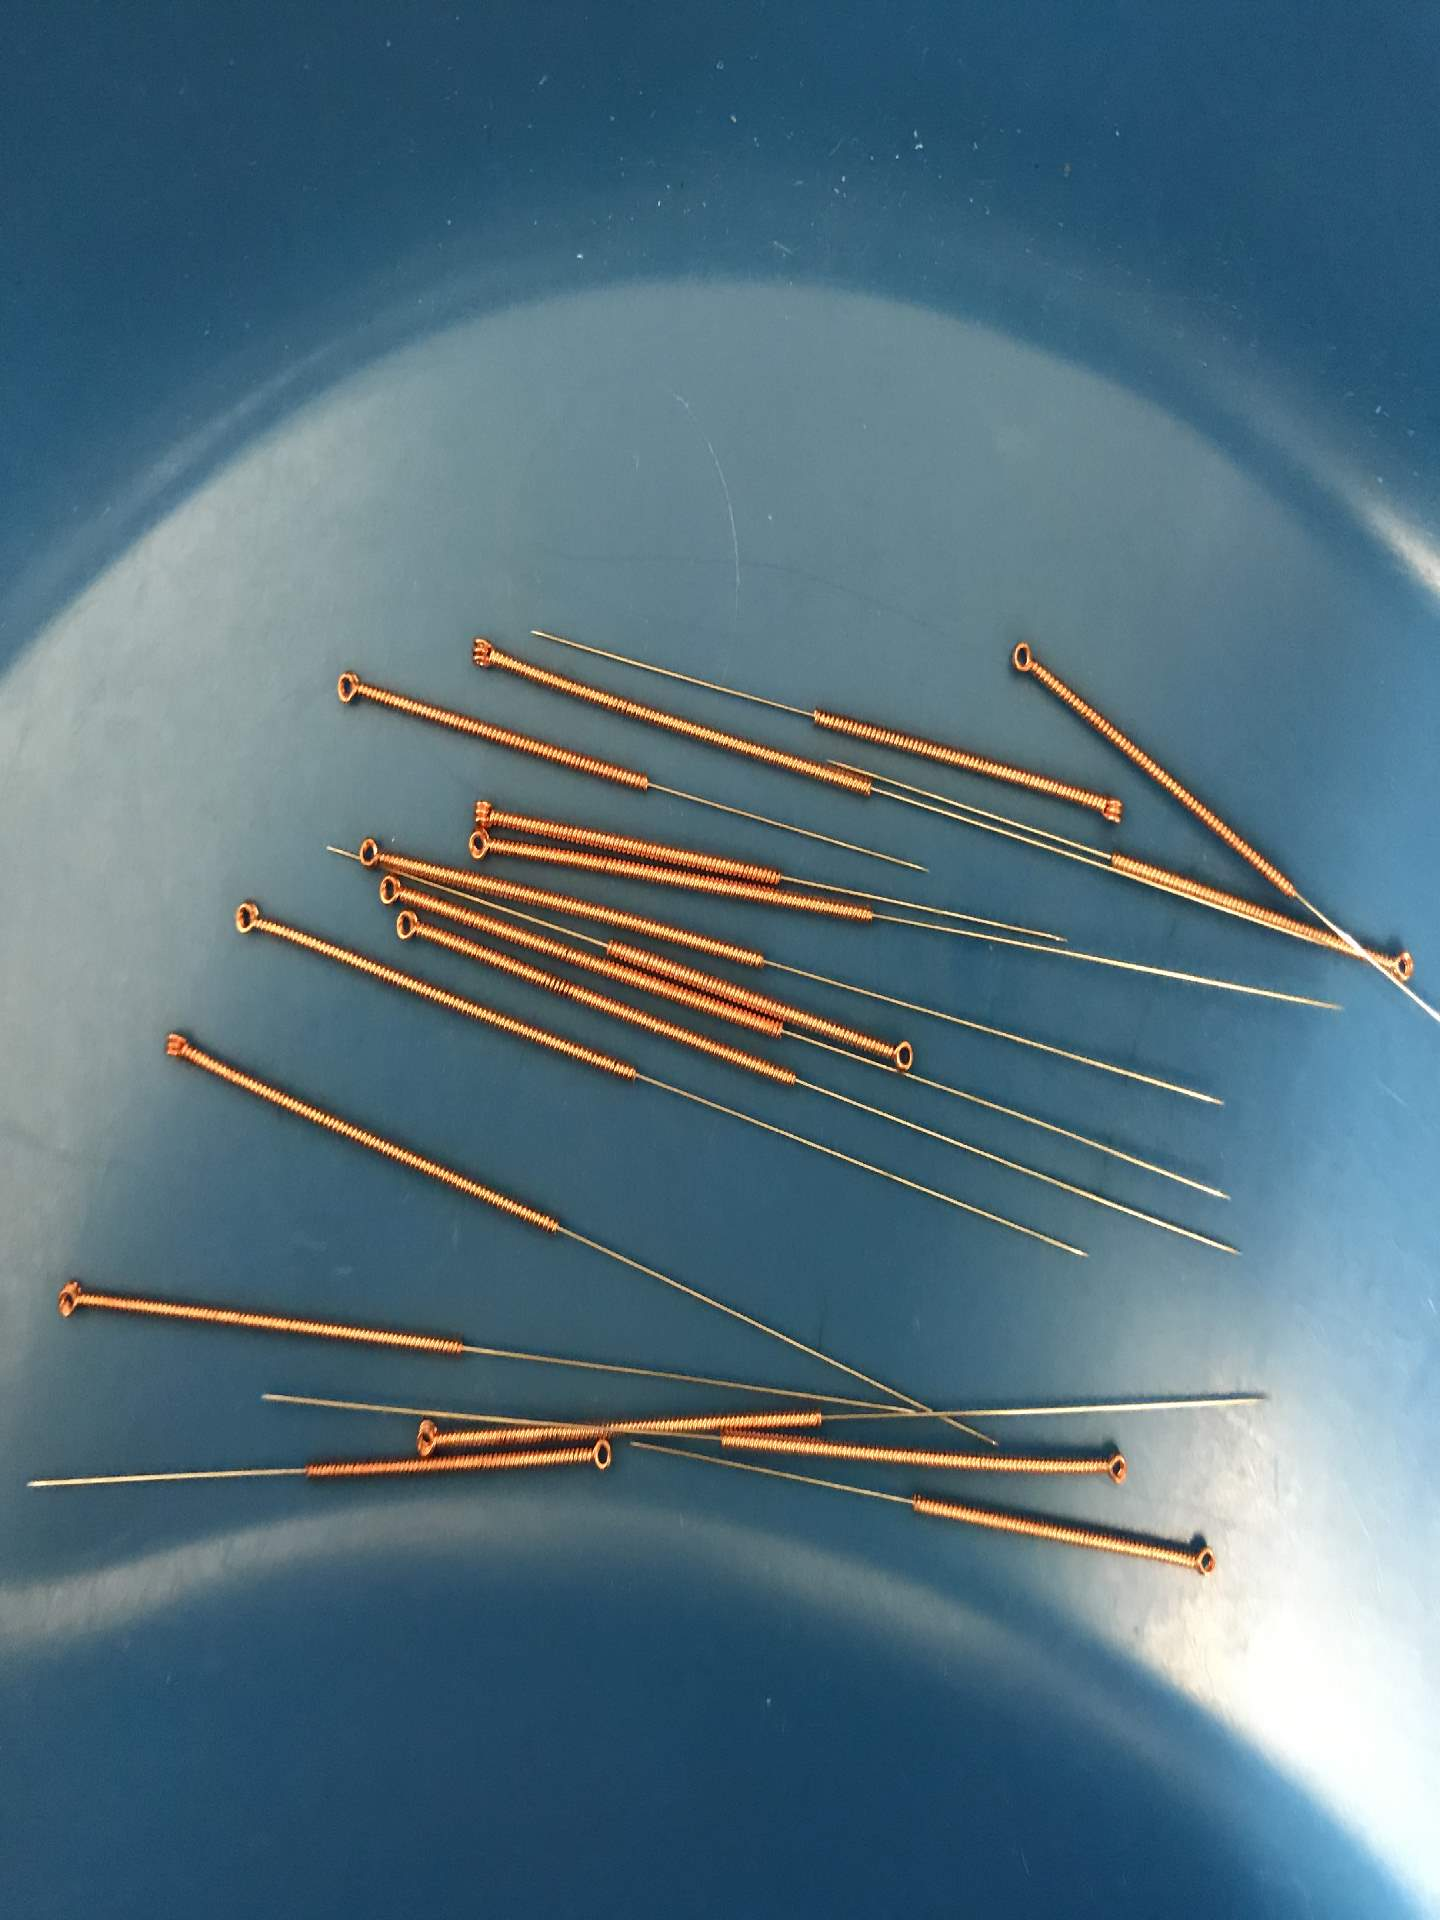needle: (219, 890, 272, 951), (44, 1268, 95, 1330), (151, 1017, 201, 1079), (455, 627, 510, 682), (871, 1028, 924, 1082), (322, 662, 374, 718), (995, 630, 1047, 686), (1373, 940, 1423, 992), (455, 816, 504, 869), (404, 1414, 451, 1463), (1178, 1533, 1224, 1584), (384, 904, 430, 954), (576, 1432, 623, 1479), (1091, 1442, 1134, 1491), (346, 830, 392, 875), (368, 869, 414, 912), (1091, 783, 1131, 831), (461, 792, 510, 831)
